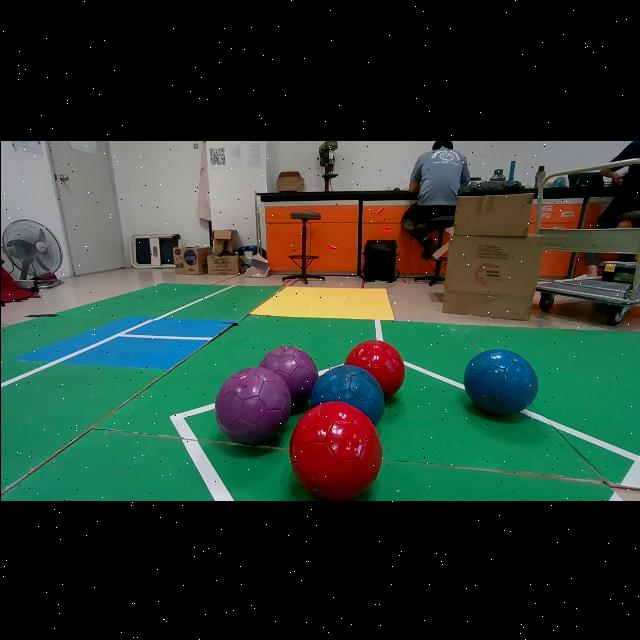B: (463, 348, 537, 415), (309, 364, 383, 424)
P: (214, 366, 290, 444), (258, 344, 317, 407)
R: (289, 401, 380, 500), (343, 339, 402, 398)
